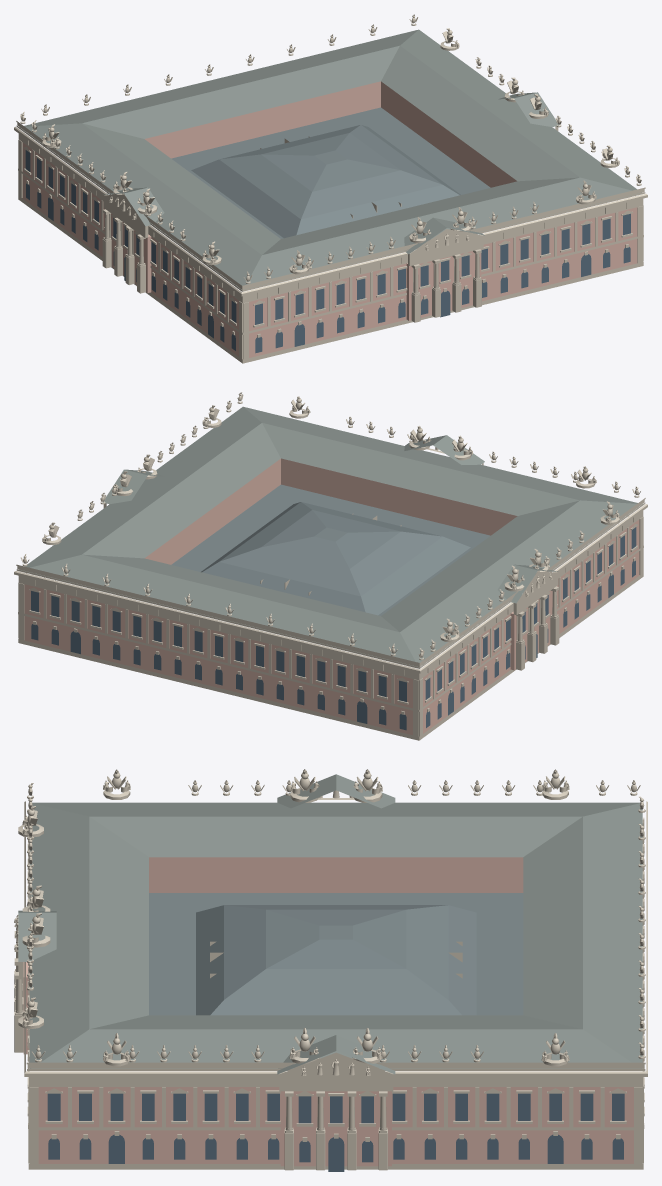
Rendered from berlin-zeughaus.detail.glb.
3 views of the same model, one above another, from view 1: azimuth 30°, elevation 25°; view 2: azimuth 150°, elevation 25°; view 3: azimuth 270°, elevation 25° (orthographic). The views are drawn at different scales.
Visible parts, largest first — view 1: Zeughaus; view 2: Zeughaus; view 3: Zeughaus.
Boxes of the visible parts, <box> form: Zeughaus: <box>14,14,647,363</box>; Zeughaus: <box>14,392,647,740</box>; Zeughaus: <box>14,769,647,1171</box>.
Size of the model in its own units: 99.33 by 22.54 by 94.87.
